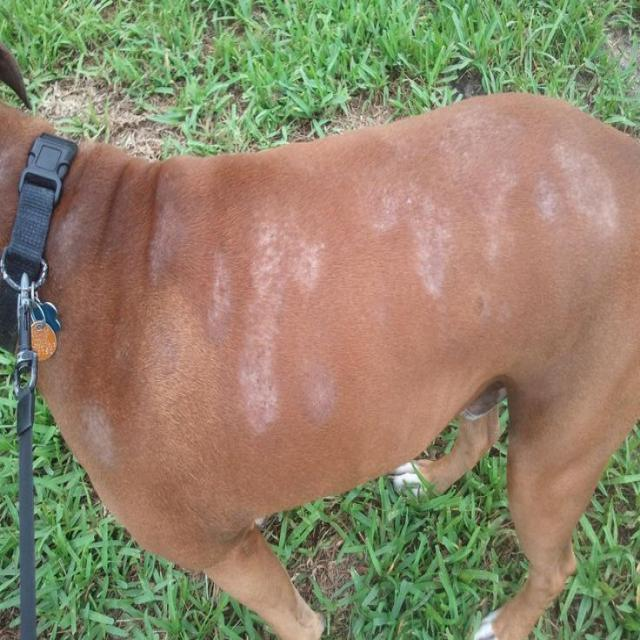fungal infection: (242, 200, 334, 430), (365, 115, 453, 304), (438, 99, 522, 264), (531, 129, 622, 238), (143, 164, 190, 283), (70, 394, 115, 462), (208, 237, 233, 322), (56, 200, 90, 260), (235, 521, 268, 568), (0, 136, 16, 190)
